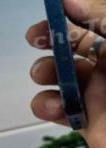scratch: (22, 0, 83, 74)
